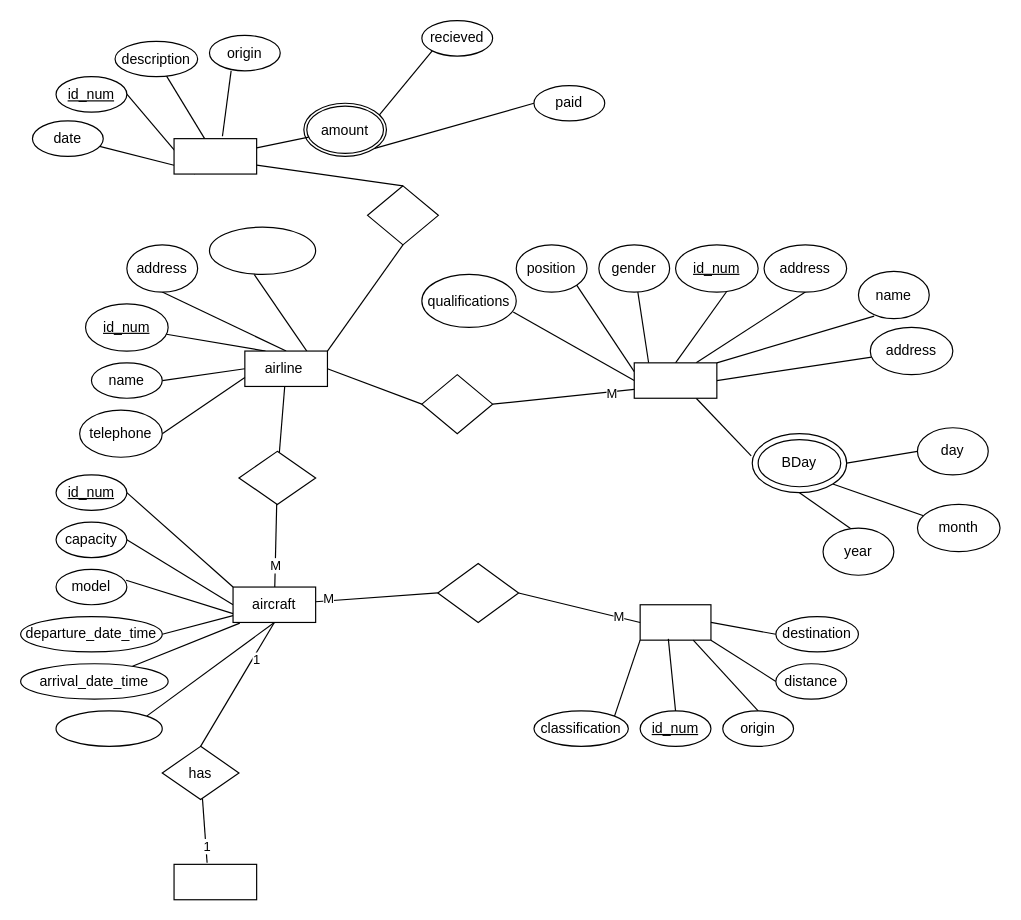
This 1021x920 diagram has some shape labels left out. The shapes that lost their labels are listed below. From the top down, each one's centre as x and y in pixels, then its label:
At pixel 215 155: "transaction".
At pixel 402 215: "tracks".
At pixel 262 250: "contact_name".
At pixel 675 380: "employee".
At pixel 457 403: "works".
At pixel 277 477: "owns".
At pixel 478 592: "assigned".
At pixel 675 622: "routes".
At pixel 108 728: "traveling_time".
At pixel 215 881: "crew".
